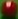brown: (0, 0, 18, 19)
